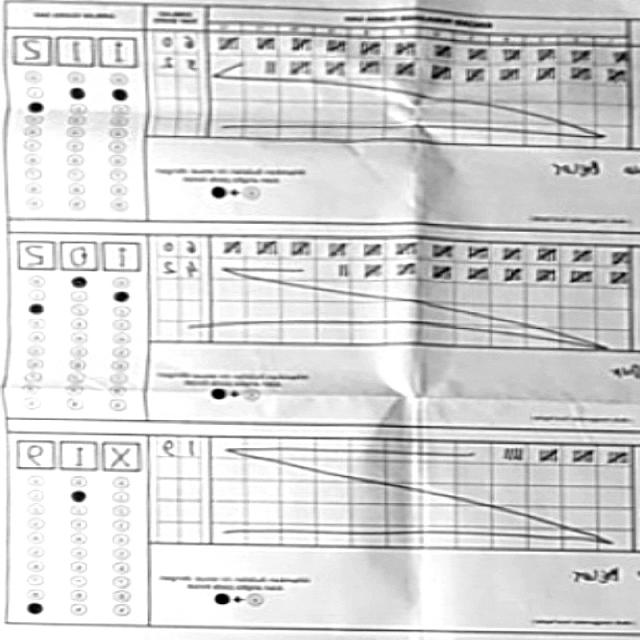Suara: (10, 33, 141, 69), (13, 238, 143, 274), (13, 437, 143, 473)
